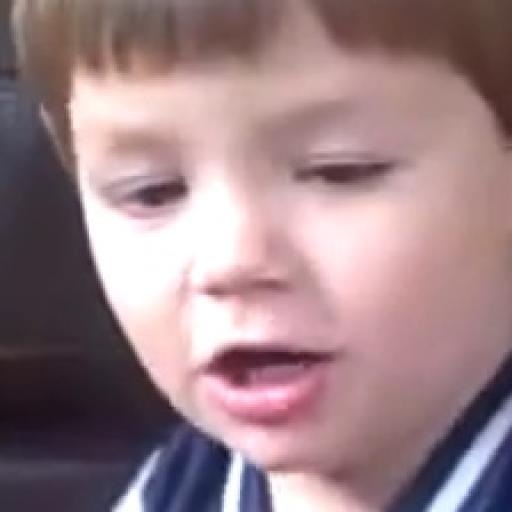Autism: (52, 0, 512, 455)
